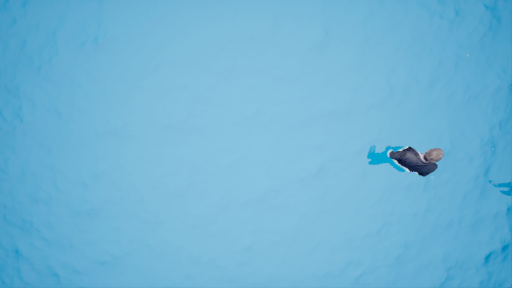person: (367, 143, 446, 179)
